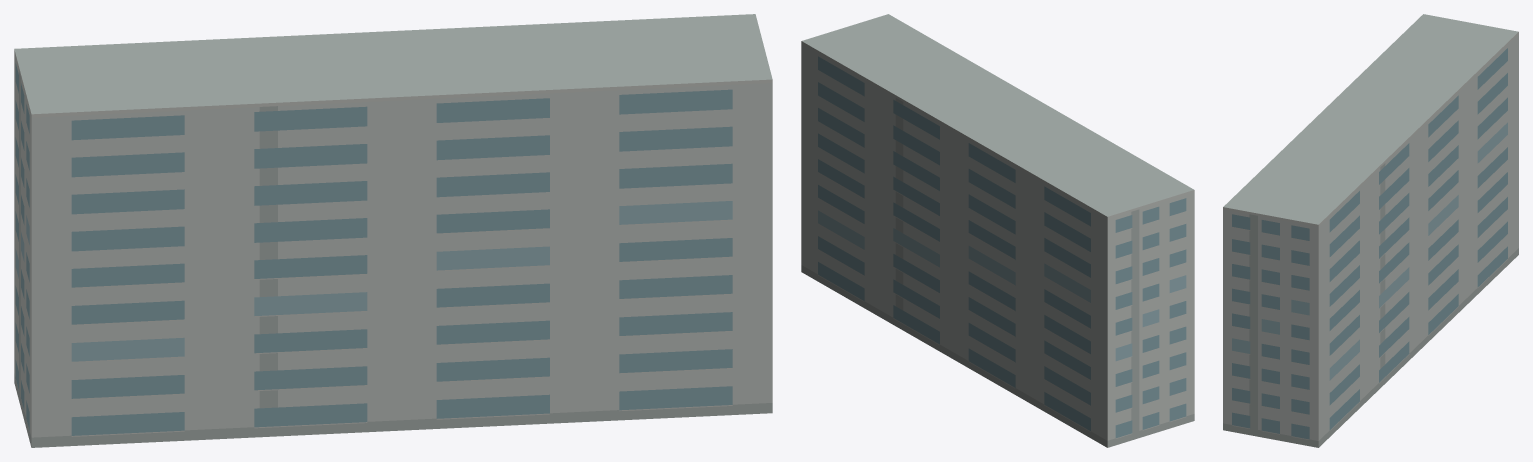
Rendered from residential-756009e9-5b4d-4a64-b9dd-78bbabb39503.glb.
3 views of the same model, side by side, from view 1: azimuth 30°, elevation 25°; view 2: azimuth 150°, elevation 25°; view 3: azimuth 270°, elevation 25° (orthographic). The views are drawn at different scales.
Visible parts, largest first — view 1: residential-756009e9-5b4d-4a64-b9dd-78bbabb39503.tmp; view 2: residential-756009e9-5b4d-4a64-b9dd-78bbabb39503.tmp; view 3: residential-756009e9-5b4d-4a64-b9dd-78bbabb39503.tmp.
Boxes of the visible parts, left/top/right/bottom form: residential-756009e9-5b4d-4a64-b9dd-78bbabb39503.tmp: left=14, top=14, right=772, bottom=447; residential-756009e9-5b4d-4a64-b9dd-78bbabb39503.tmp: left=801, top=14, right=1194, bottom=447; residential-756009e9-5b4d-4a64-b9dd-78bbabb39503.tmp: left=1223, top=14, right=1518, bottom=447.
Bounding box in the file's own units: 48.62 × 24 × 28.83.
